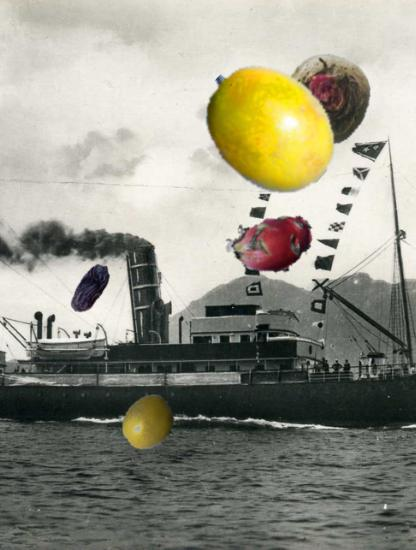Beetroot: (279, 52, 375, 148)
Dates: (63, 261, 118, 316)
Maracuja: (197, 56, 341, 200), (121, 395, 179, 453)
Pitahaya: (226, 200, 317, 291)
